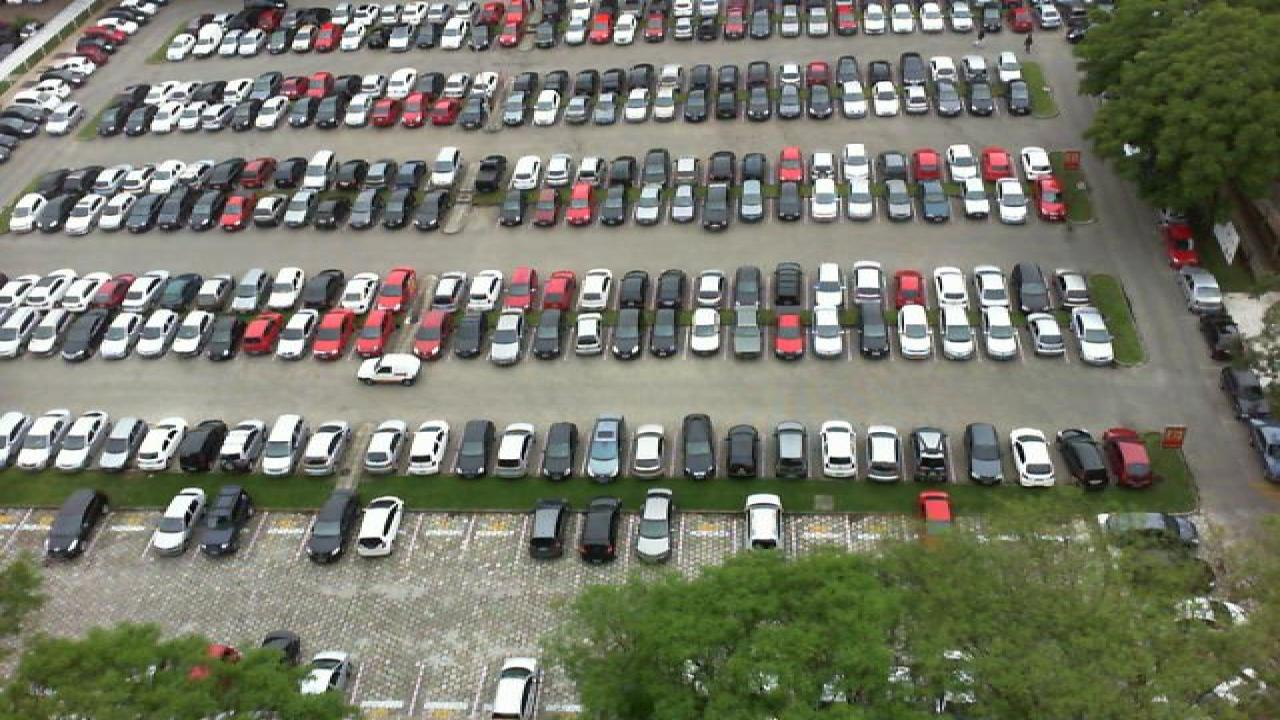Car: (40, 487, 108, 563), (148, 485, 210, 558), (302, 486, 360, 564), (198, 483, 258, 557), (482, 655, 544, 720), (350, 493, 408, 559), (1056, 426, 1114, 490), (1006, 426, 1064, 488), (292, 649, 354, 703), (1102, 426, 1156, 488), (634, 486, 678, 561), (14, 409, 68, 470), (174, 418, 232, 474), (356, 416, 410, 476), (304, 416, 356, 478), (962, 420, 1010, 487), (256, 412, 306, 476), (1064, 307, 1118, 366), (54, 409, 106, 470), (674, 410, 718, 482), (132, 418, 188, 474), (526, 495, 574, 560), (402, 415, 452, 477), (576, 495, 622, 561), (908, 423, 956, 485), (816, 418, 862, 482), (92, 415, 144, 471), (218, 417, 268, 475), (450, 417, 496, 480), (582, 416, 626, 480), (102, 307, 154, 361), (60, 307, 112, 360), (742, 490, 786, 552), (720, 420, 764, 482), (768, 419, 812, 481), (864, 422, 908, 484), (936, 302, 982, 361), (1022, 308, 1070, 364), (628, 422, 672, 481), (22, 307, 70, 360), (356, 307, 404, 360), (356, 351, 426, 387), (892, 304, 936, 361), (980, 304, 1024, 361), (146, 306, 192, 360), (496, 420, 538, 479), (184, 306, 230, 359), (316, 307, 360, 362), (768, 303, 810, 360), (850, 304, 892, 361), (234, 309, 280, 361), (914, 490, 958, 544), (540, 421, 580, 480), (486, 308, 528, 364), (0, 407, 38, 467), (728, 304, 768, 361), (810, 304, 850, 361), (648, 305, 688, 361), (280, 307, 322, 360), (418, 307, 460, 360), (608, 306, 648, 360), (688, 306, 728, 360), (528, 308, 568, 361), (568, 307, 608, 360), (452, 307, 492, 359), (0, 308, 34, 360)
